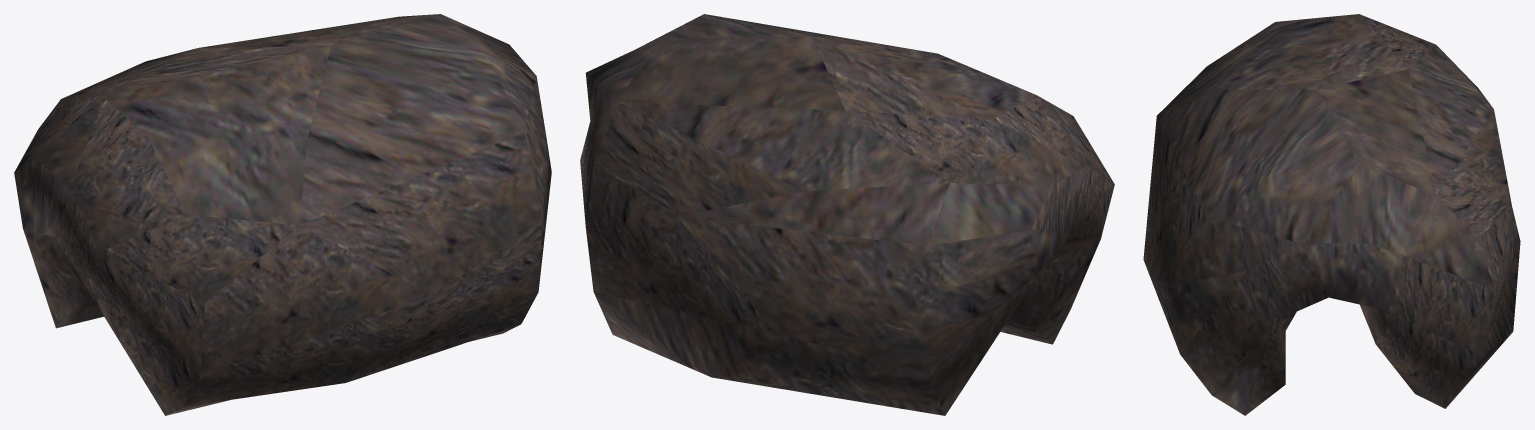
Rendered from hjhf.hrc.gltf.
3 views of the same model, side by side, from view 1: azimuth 30°, elevation 25°; view 2: azimuth 150°, elevation 25°; view 3: azimuth 270°, elevation 25° (orthographic). The views are drawn at different scales.
Parts seen in each view (by area): view 1: hjhfBone0_null; view 2: hjhfBone0_null; view 3: hjhfBone0_null.
Part boxes in pixels (box(x1,y1,x2,y2)): hjhfBone0_null: box(14, 14, 551, 415); hjhfBone0_null: box(580, 14, 1114, 415); hjhfBone0_null: box(1143, 14, 1520, 415).
Bounding box in the file's own units: 105 × 61.77 × 79.06.
Materials: 1 (1 with a texture image).
